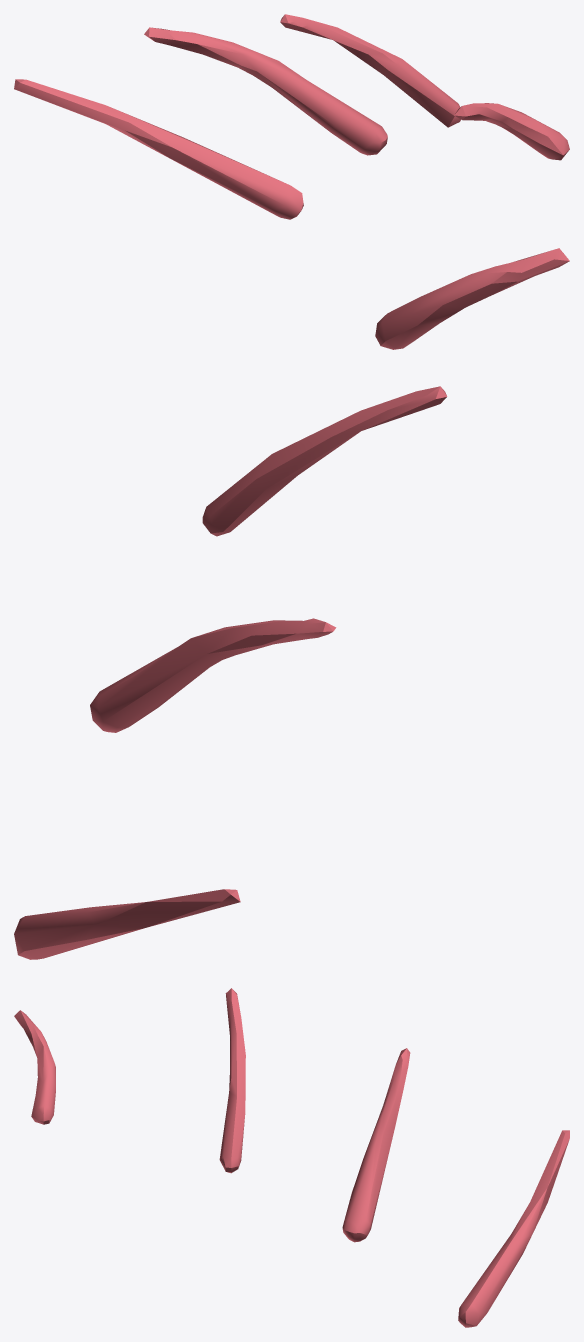
File: fma71571_fj4693.glb
The picture shows the model from 3 angles, top to bottom: view 1: azimuth 30°, elevation 25°; view 2: azimuth 150°, elevation 25°; view 3: azimuth 270°, elevation 25°; orthographic projection. The views are drawn at different scales.
Visible parts, largest first — view 1: FMA71571_FJ4693; view 2: FMA71571_FJ4693; view 3: FMA71571_FJ4693.
Boxes of the visible parts, x1,y1,x2,y2 form: FMA71571_FJ4693: [14, 14, 569, 219]; FMA71571_FJ4693: [14, 248, 569, 959]; FMA71571_FJ4693: [14, 988, 569, 1327].
Bounding box in the file's own units: 0.00756 × 0.0105 × 0.019.
